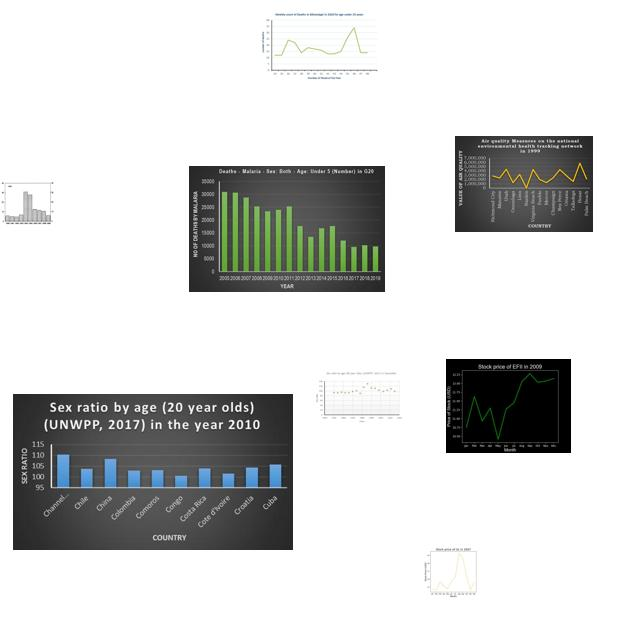Graph: (13, 394, 293, 550), (189, 166, 385, 292), (455, 136, 593, 232), (446, 359, 571, 453), (259, 11, 380, 83), (313, 370, 403, 423), (417, 545, 488, 598), (1, 181, 55, 225)
